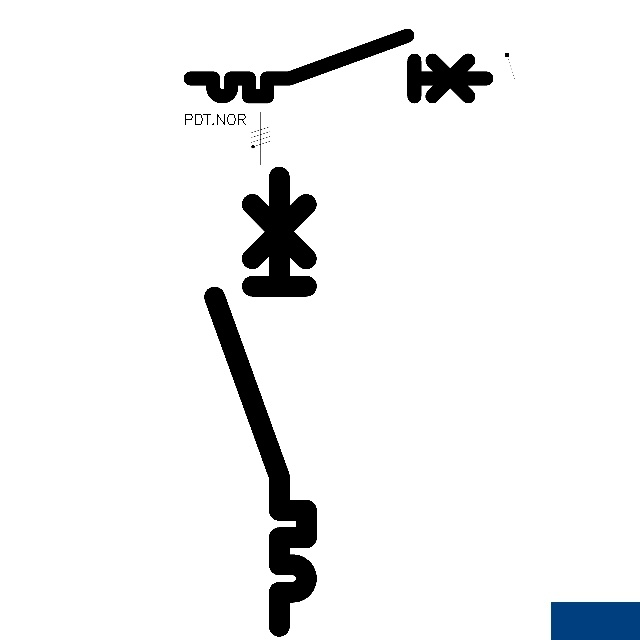interruptor_termomagnetico: (203, 165, 318, 637), (183, 28, 494, 104)
